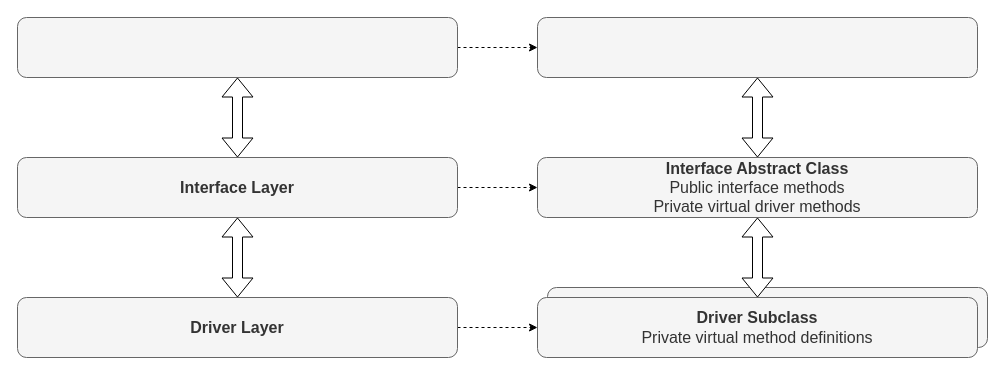
Some shapes in this 1005 by 375 pixel diagram are drawn without their labels. Each missing label, with the box of its shape:
Application Layer: (16, 16, 458, 78)
Application Object Instantiation Product-specific configuration: (536, 16, 978, 78)
